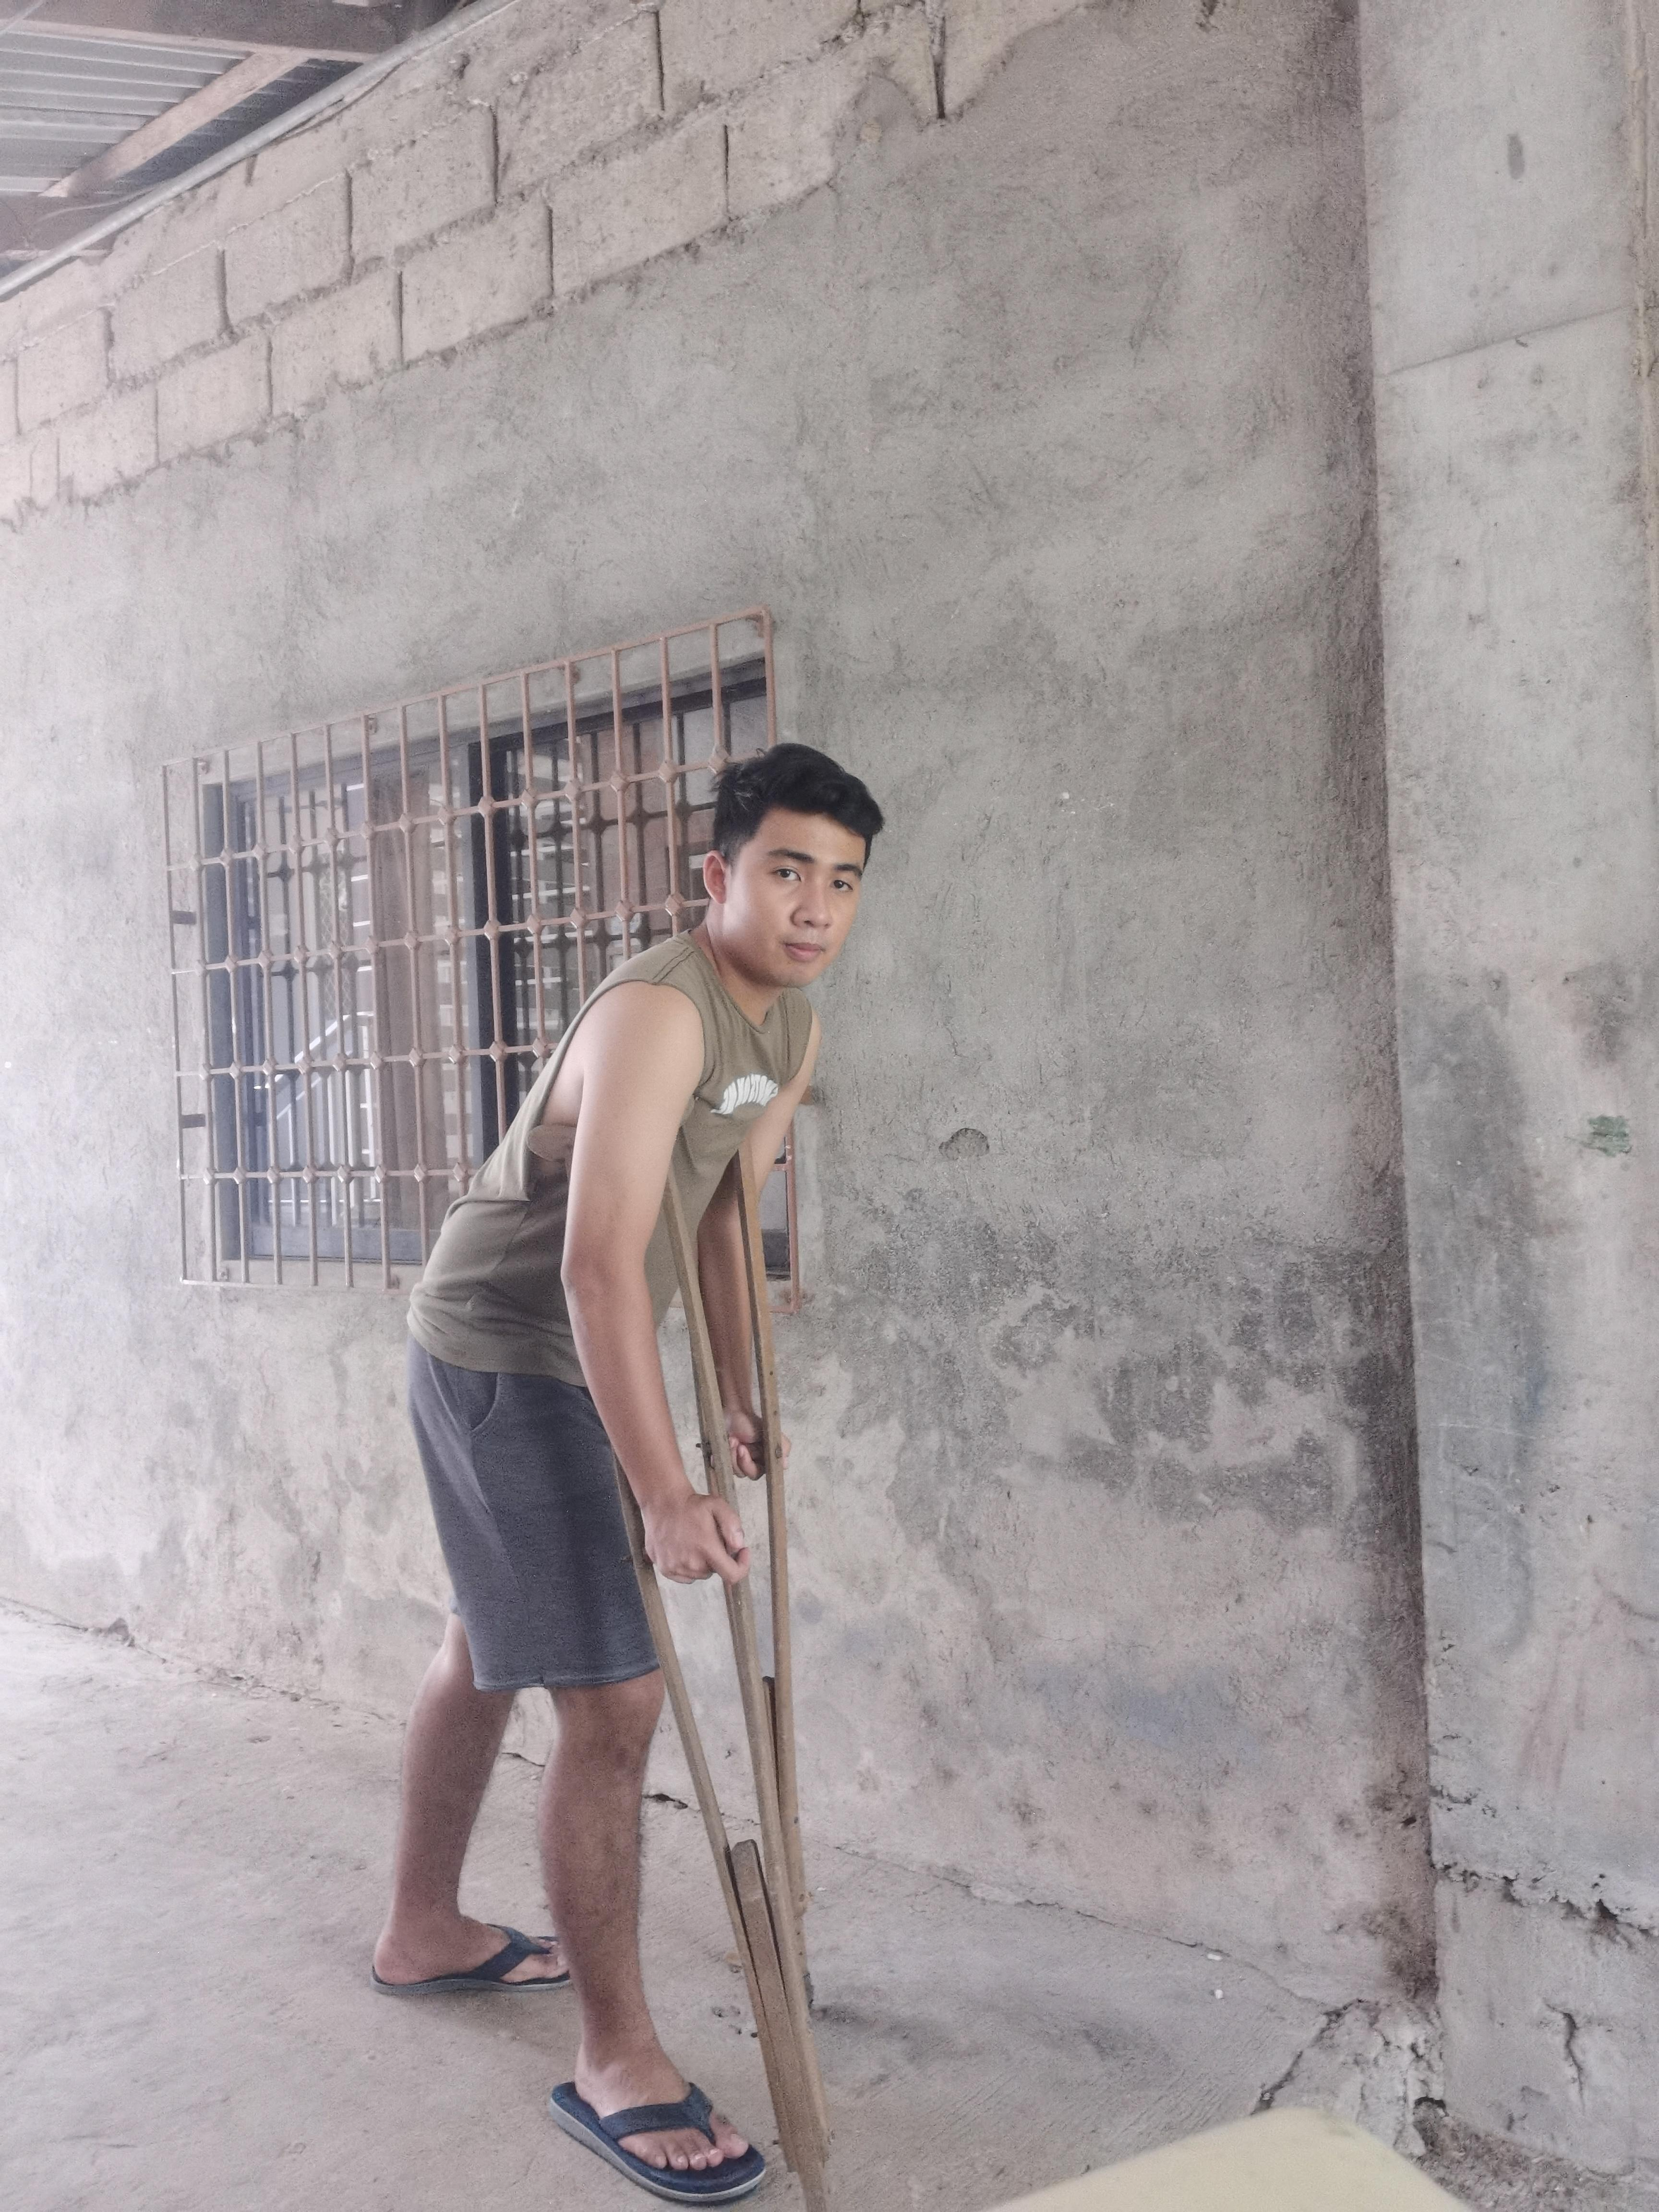crutches: (355, 716, 897, 2212)
